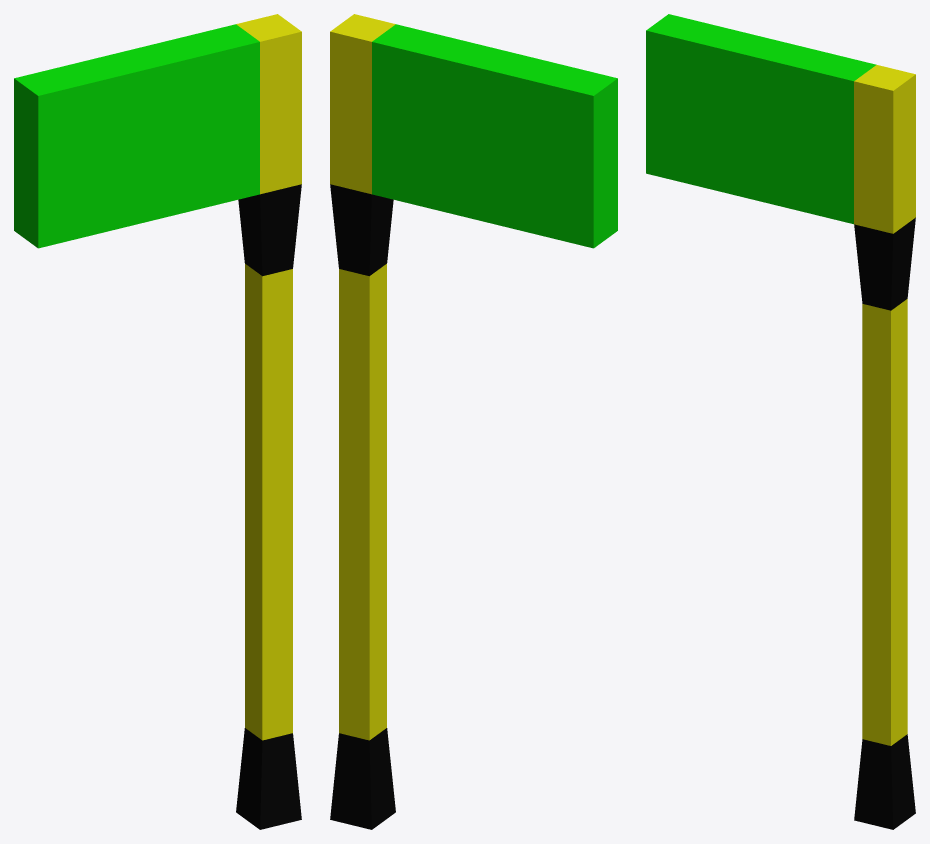
The model's file is Checkpointflag.fbx.
The picture shows the model from 3 angles, left to right: view 1: azimuth 30°, elevation 25°; view 2: azimuth 150°, elevation 25°; view 3: azimuth 330°, elevation 25°; orthographic projection. The views are drawn at different scales.
Visible parts, largest first — view 1: Checkpoint; view 2: Checkpoint; view 3: Checkpoint.
Part boxes in pixels (x1,y1,x2,y2): Checkpoint: [14, 14, 301, 829]; Checkpoint: [330, 14, 617, 829]; Checkpoint: [646, 14, 915, 829].
Size of the model in its own units: 0.0196 by 0.0559 by 0.0031.
